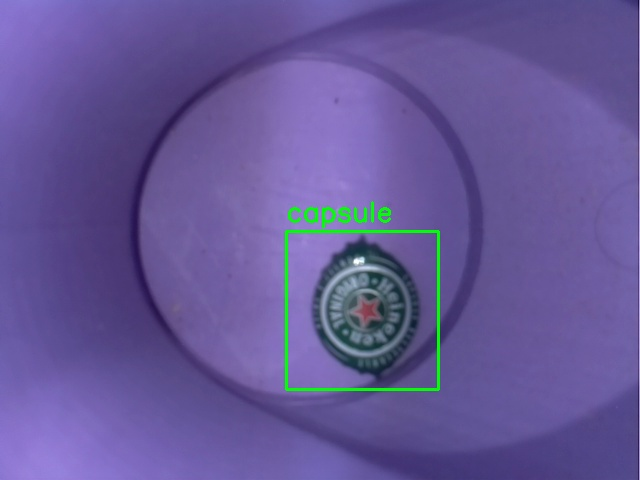capsule: (286, 231, 438, 389)
